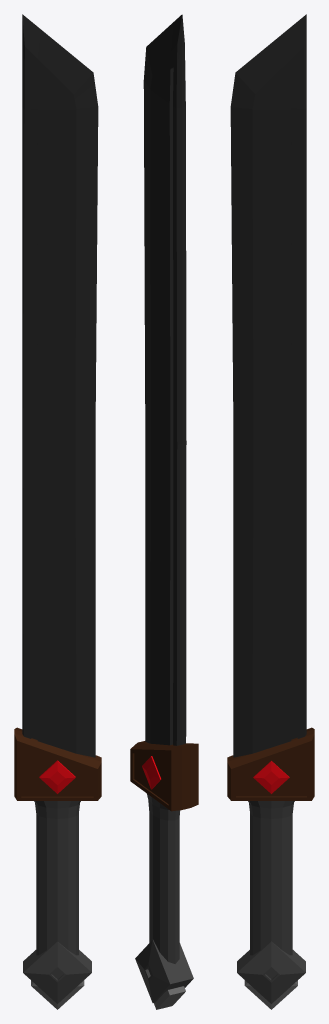
The model's file is Sword1.fbx.
3 renders of one model, left to right at view 1: azimuth 90°, elevation 25°; view 2: azimuth 210°, elevation 25°; view 3: azimuth 270°, elevation 25°, orthographic.
Visible parts, largest first — view 1: Cylinder.001; view 2: Cylinder.001; view 3: Cylinder.001.
Boxes of the visible parts, x1=… form: Cylinder.001: x1=14, y1=14, x2=101, y2=1009; Cylinder.001: x1=130, y1=14, x2=198, y2=1009; Cylinder.001: x1=227, y1=14, x2=314, y2=1009.
Size of the model in its own units: 4.87 by 148 by 11.81.
